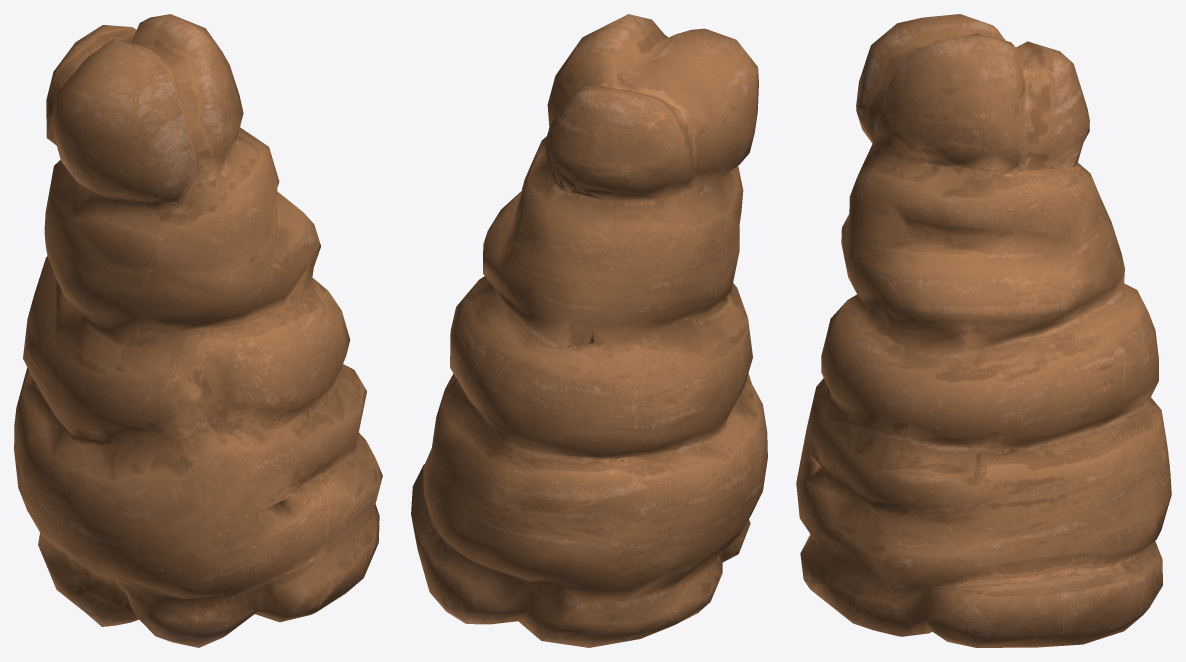
Rendered from rock5.fbx.
3 renders of one model, left to right at view 1: azimuth 30°, elevation 25°; view 2: azimuth 150°, elevation 25°; view 3: azimuth 270°, elevation 25°, orthographic. The views are drawn at different scales.
Parts seen in each view (by area): view 1: Plane.013; view 2: Plane.013; view 3: Plane.013.
Boxes of the visible parts, bbox=[...] form: Plane.013: bbox=[14, 14, 382, 647]; Plane.013: bbox=[411, 14, 767, 647]; Plane.013: bbox=[796, 14, 1171, 647].
Bounding box in the file's own units: 173 × 313 × 186.
Materials: 1 (1 with a texture image).
